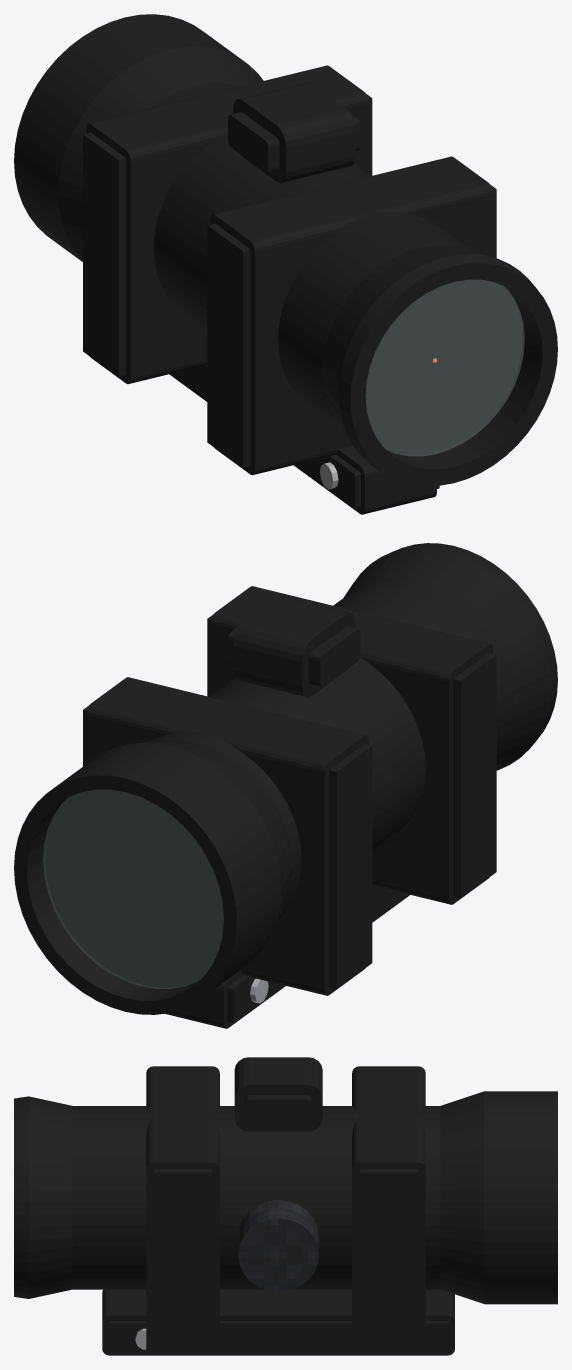
The model's file is mira_ponto_vermelho_revolver.glb.
3 views of the same model, one above another, from view 1: azimuth 30°, elevation 25°; view 2: azimuth 150°, elevation 25°; view 3: azimuth 270°, elevation 25° (orthographic). The views are drawn at different scales.
Visible parts, largest first — view 1: mira_ponto_vermelho_revolver_aluminio_preto, mira_ponto_vermelho_revolver_lente; view 2: mira_ponto_vermelho_revolver_aluminio_preto, mira_ponto_vermelho_revolver_lente; view 3: mira_ponto_vermelho_revolver_aluminio_preto, mira_ponto_vermelho_revolver_recartilhado.
Boxes of the visible parts, x1=… form: mira_ponto_vermelho_revolver_aluminio_preto: x1=14, y1=14, x2=557, y2=514; mira_ponto_vermelho_revolver_lente: x1=366, y1=280, x2=524, y2=455; mira_ponto_vermelho_revolver_aluminio_preto: x1=14, y1=543, x2=557, y2=1028; mira_ponto_vermelho_revolver_lente: x1=43, y1=790, x2=223, y2=988; mira_ponto_vermelho_revolver_aluminio_preto: x1=14, y1=1057, x2=557, y2=1355; mira_ponto_vermelho_revolver_recartilhado: x1=238, y1=1200, x2=318, y2=1291.
Size of the model in its own units: 0.035 by 0.0405 by 0.074.
5 materials, 1 textured.
